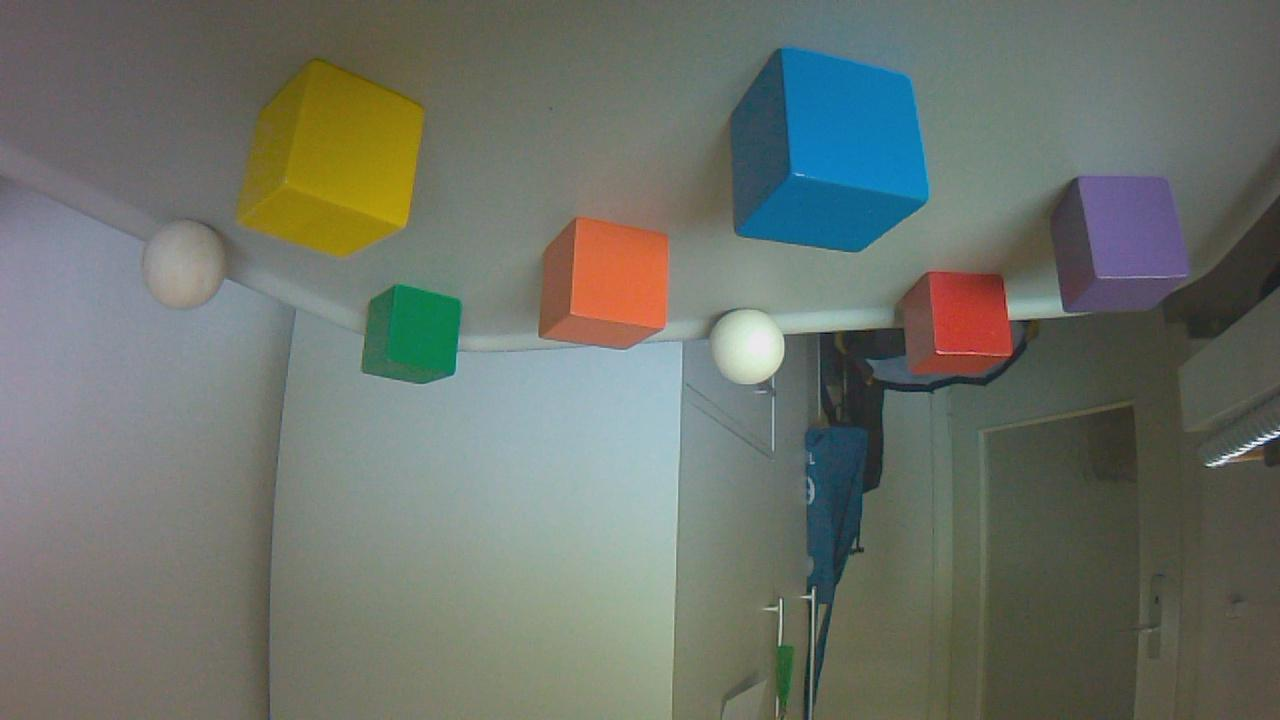ball: (138, 227, 230, 311), (712, 311, 783, 387)
cube_blue: (726, 47, 911, 249)
cube_green: (358, 287, 464, 387)
cube_orange: (536, 223, 668, 352)
cube_purple: (1047, 168, 1186, 316)
cube_red: (894, 268, 1012, 373)
cube_yellow: (246, 61, 425, 260)
